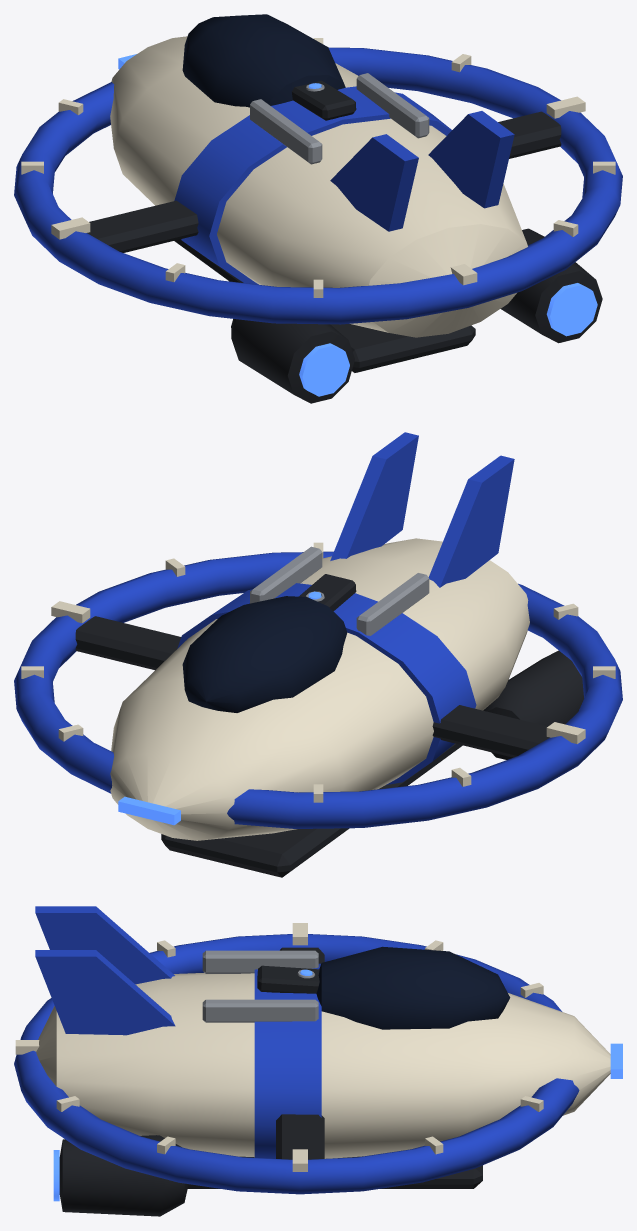
The model's file is courier.glb.
3 renders of one model, top to bottom at view 1: azimuth 30°, elevation 25°; view 2: azimuth 150°, elevation 25°; view 3: azimuth 270°, elevation 25°, orthographic. The views are drawn at different scales.
Visible parts, largest first — view 1: courier_mesh; view 2: courier_mesh; view 3: courier_mesh.
Boxes of the visible parts, box(x1,y1,x2,y2) form: courier_mesh: box(14, 14, 622, 403); courier_mesh: box(14, 432, 622, 877); courier_mesh: box(14, 906, 622, 1216).
Size of the model in its own units: 1.88 by 0.84 by 2.
